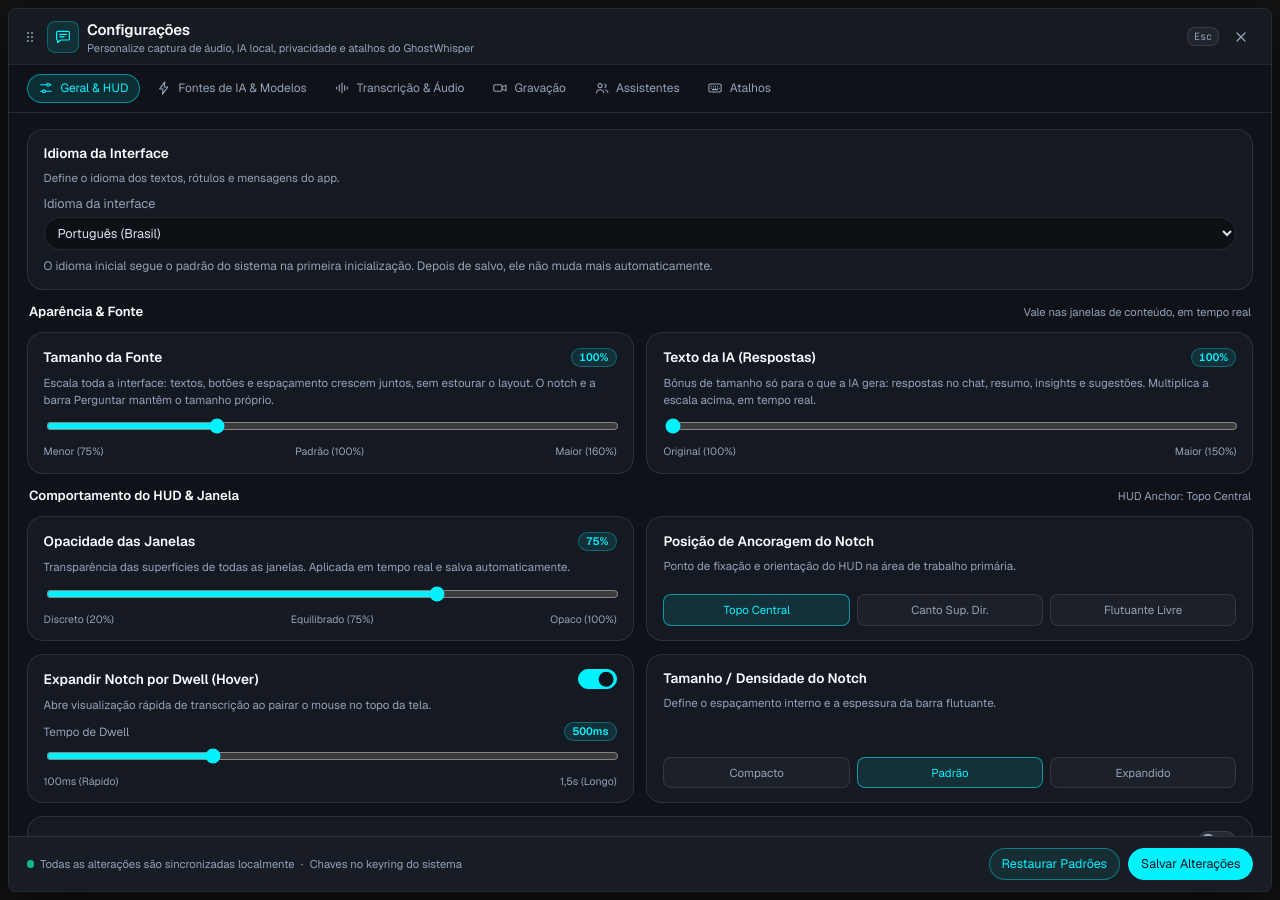
SettingsPage › restaura os padrões do core, com os agentes de fábrica
Click the button "Restaurar Padrões" at (1054, 864), box [988,848,1120,880]
(page scrolled)
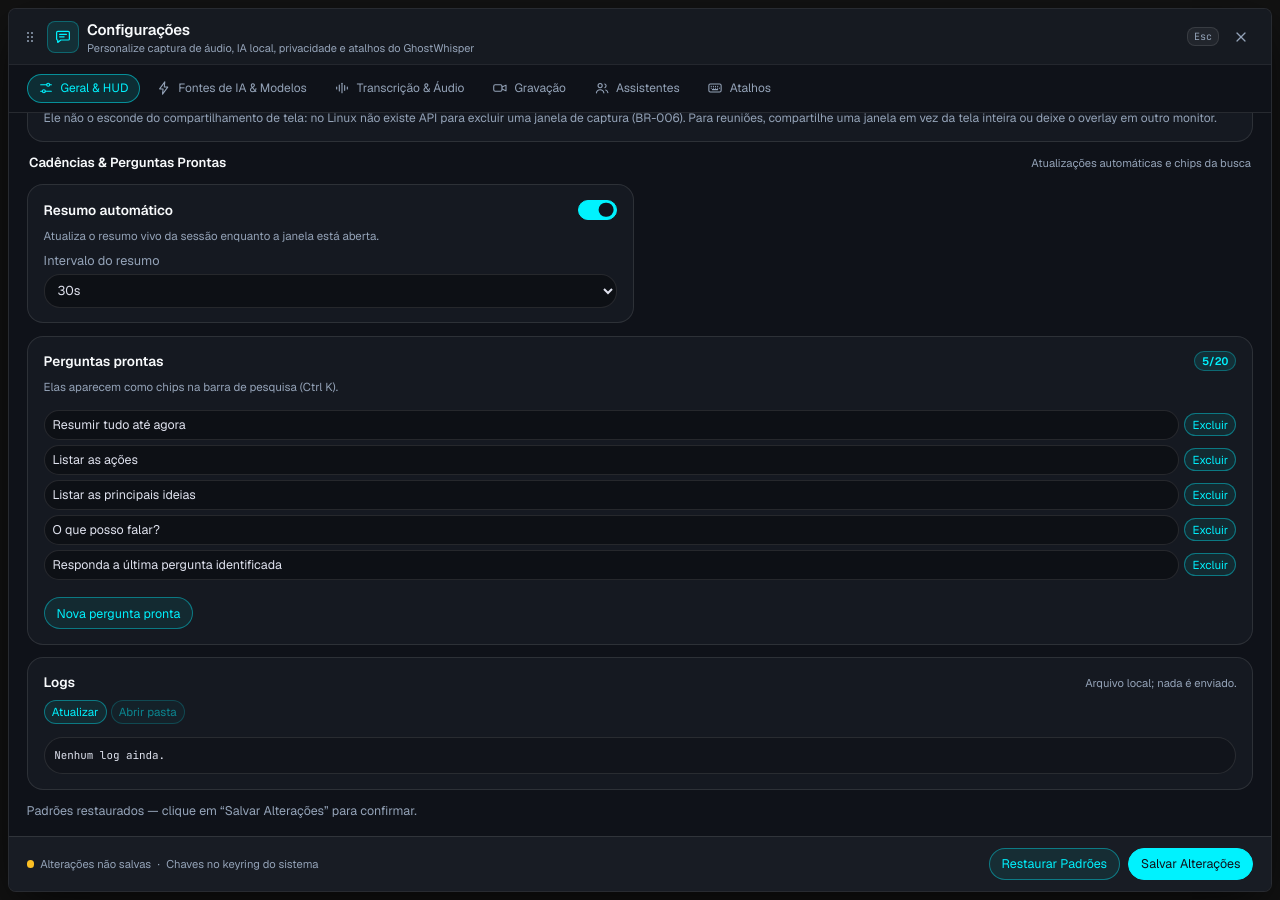
expect the text "Padrões restaurados" is shown: met, box [27,802,417,819]
